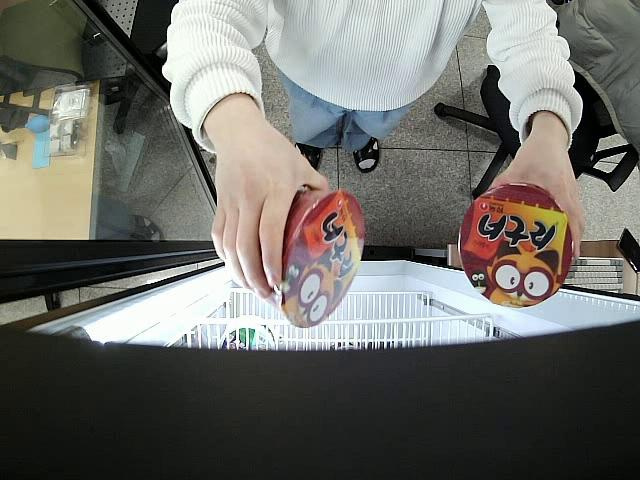00_hand: (211, 130, 330, 299), (484, 129, 586, 265)
05_nuguri_L: (257, 187, 365, 327), (458, 183, 575, 309)
